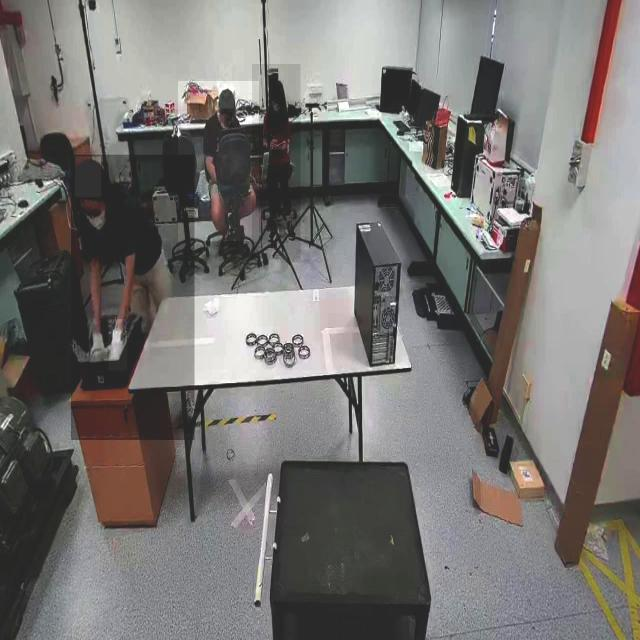face_mask: (83, 199, 106, 236), (271, 94, 284, 126)
face_nomask: (220, 112, 232, 128)
hand_glove: (109, 319, 128, 372), (88, 324, 107, 368)
hand_noglove: (267, 137, 277, 148), (276, 140, 288, 148)
head_nohelmet: (75, 156, 101, 198), (220, 88, 234, 109), (269, 79, 285, 93)
person: (71, 155, 195, 441), (178, 81, 259, 242), (252, 64, 301, 260)
shoes: (282, 216, 296, 242)
